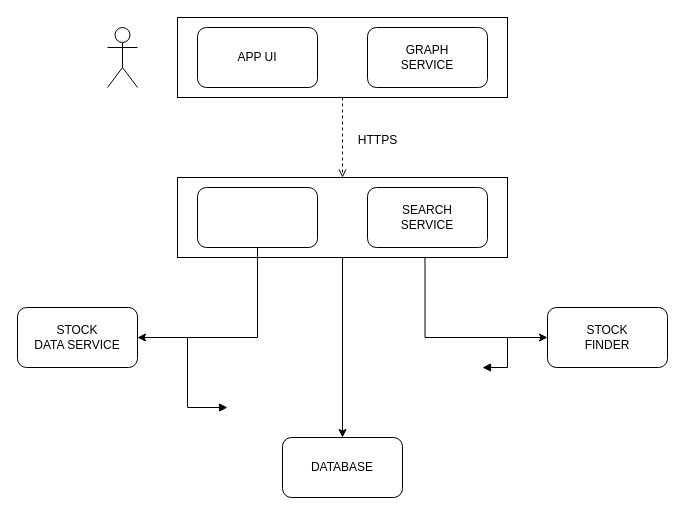
This 685x515 diagram has some shape labels left out. Each missing label, with the centre of its shape:
"STOCKS" goes at pixel 257 217.
"USER" goes at pixel 122 57.
